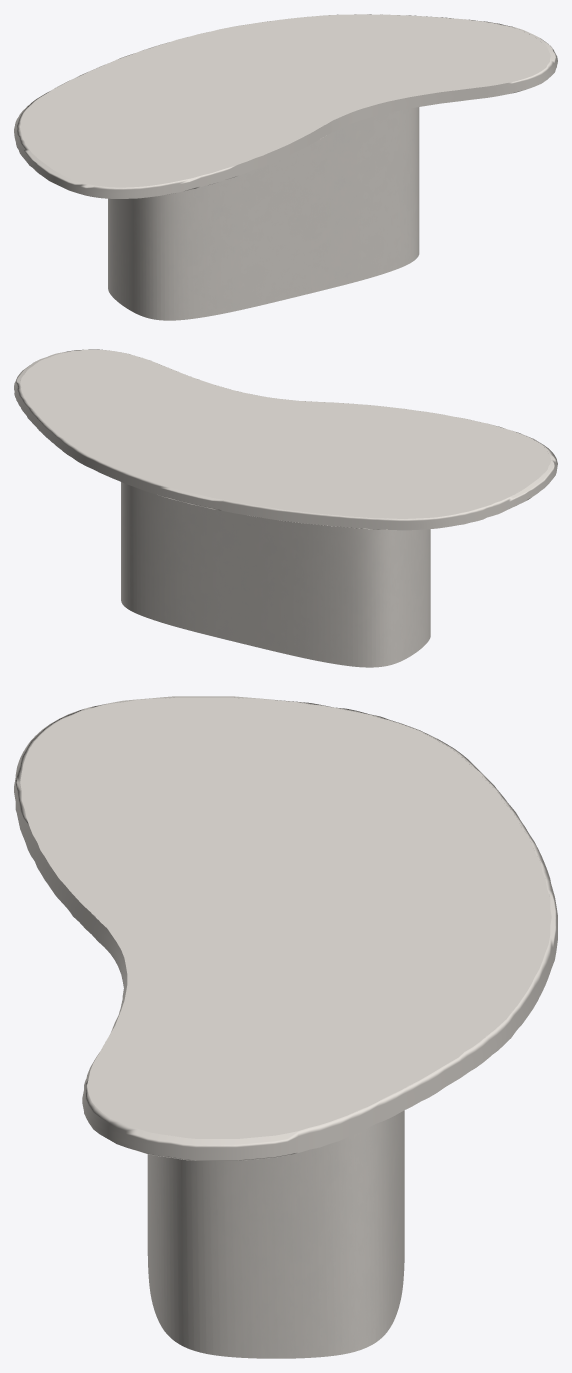
The model's file is pearlwhite_leaf1_round_fixed.glb.
The picture shows the model from 3 angles, top to bottom: view 1: azimuth 30°, elevation 25°; view 2: azimuth 150°, elevation 25°; view 3: azimuth 270°, elevation 25°; orthographic projection. The views are drawn at different scales.
Parts seen in each view (by area): view 1: round_leaf1, fixed; view 2: round_leaf1, fixed; view 3: round_leaf1, fixed.
Boxes of the visible parts, x1,y1,x2,y2 form: round_leaf1: (14,14,557,198); fixed: (108,107,419,320); round_leaf1: (14,349,557,530); fixed: (121,482,430,667); round_leaf1: (14,696,557,1160); fixed: (147,1110,404,1358).
Size of the model in its own units: 7.49 by 2.5 by 3.8.
Materials: 1 (1 with a texture image).
